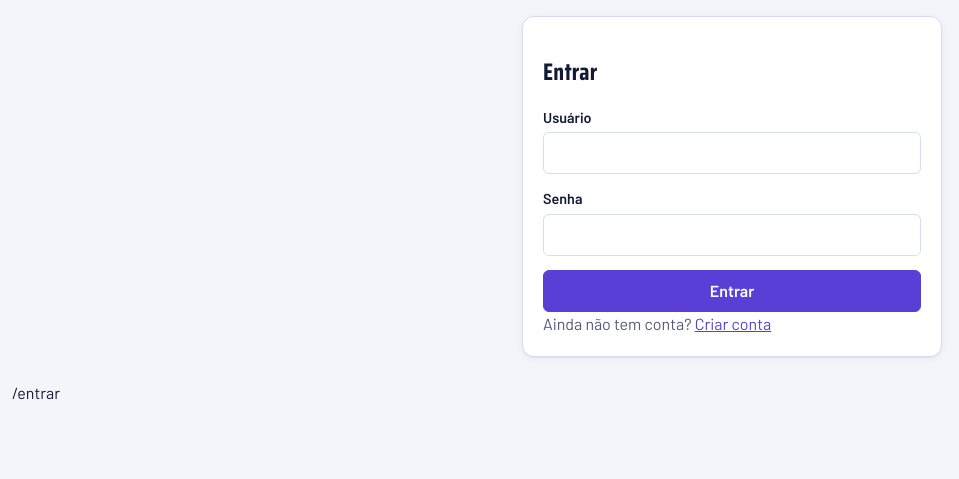
Scenario: LoginPage (spec 002, cenário 1.1) › credenciais inválidas mostram a mensagem do servidor e ficam na página
This screenshot has width=959, height=479.
Type "x" into the field labelled "Usuário".
click(732, 153); type("x")  # box left=543, top=132, right=921, bottom=174
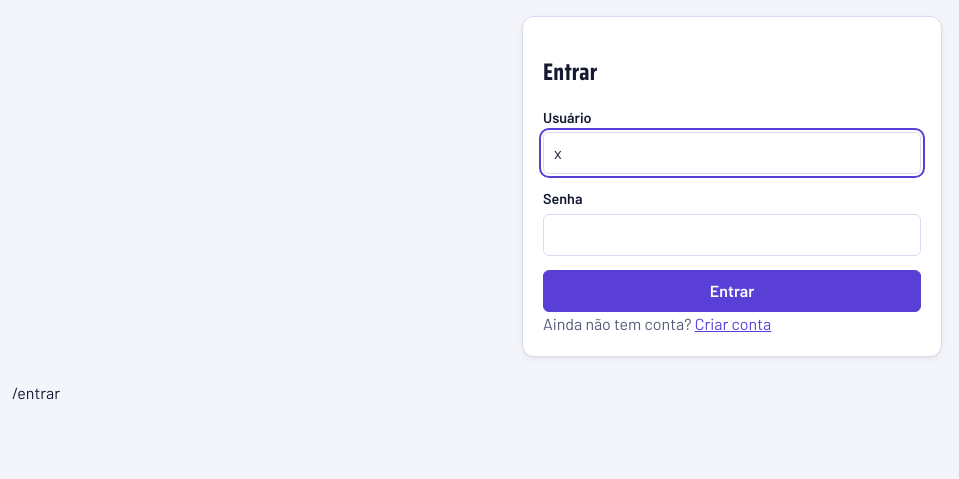
Type "errada" into the password field labelled "Senha".
click(732, 235); type("errada")  # box left=543, top=214, right=921, bottom=256
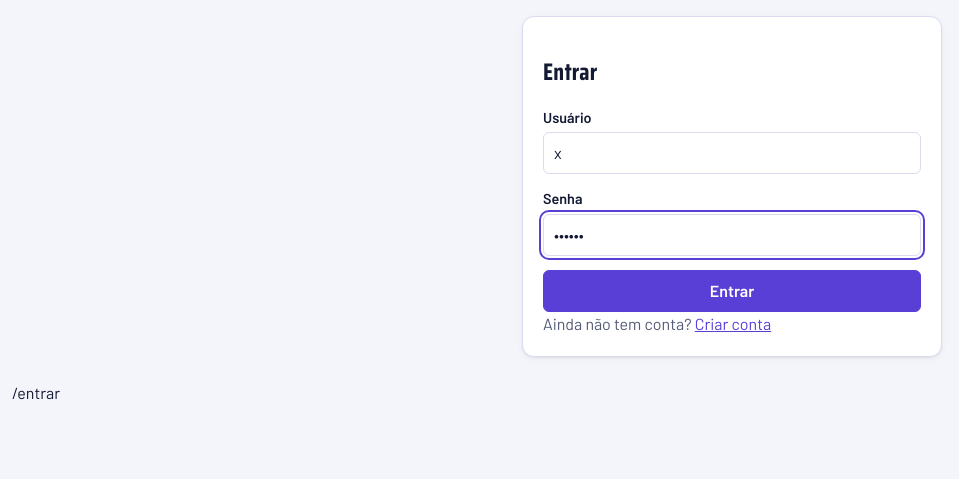
Click the button "Entrar".
click(732, 291)  # box left=543, top=270, right=921, bottom=312
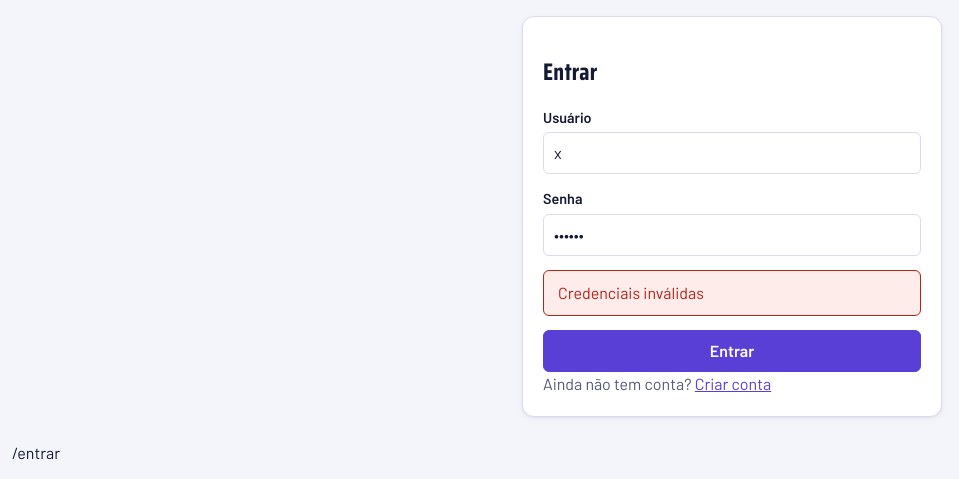
Expected: the text with test id "location" reads "/entrar", left=12, top=443, right=60, bottom=462
Now the text "Credenciais inválidas" is shown, box left=543, top=270, right=921, bottom=316
